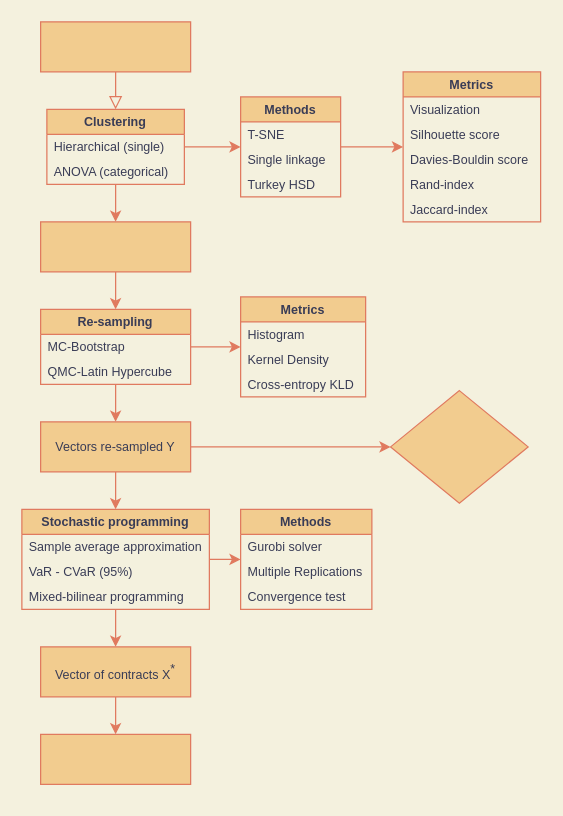
This 563x816 diagram has some shape labels left out. Each missing label, with the centre of its shape:
Dataset (sampling): pixel 115 46
Optimal contract Mean(X * ): pixel 115 758
Repeat for each cluster: pixel 458 446
Stratified dataset: pixel 115 246
